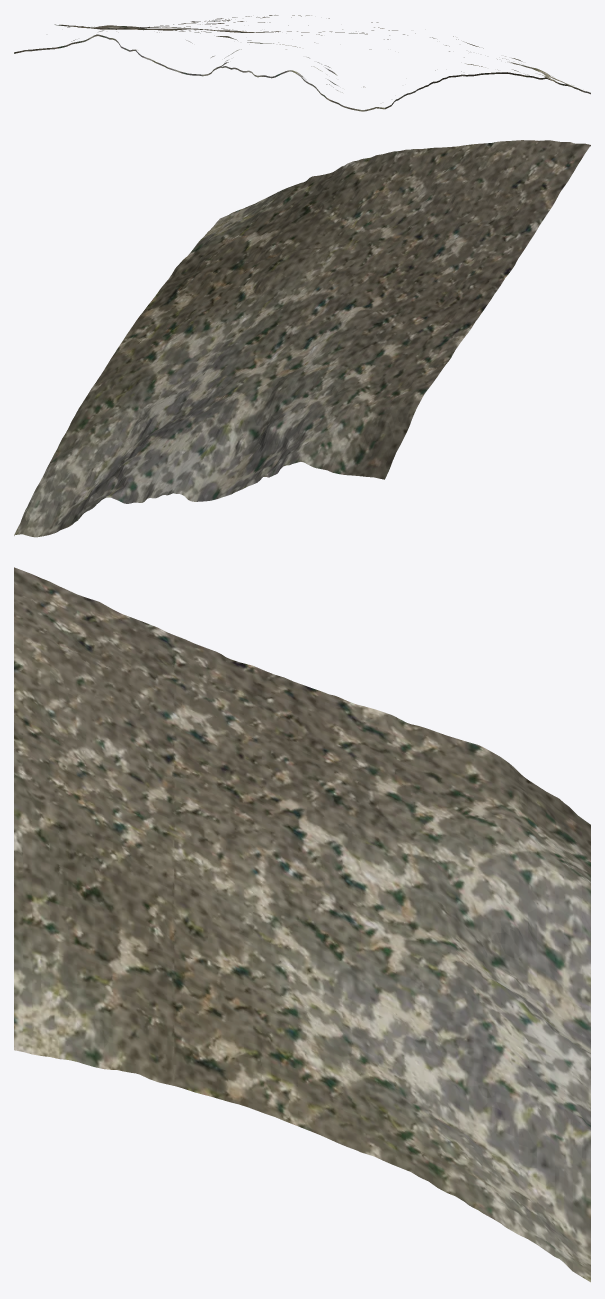
3 views of the same model, one above another, from view 1: azimuth 30°, elevation 25°; view 2: azimuth 150°, elevation 25°; view 3: azimuth 270°, elevation 25° (orthographic). The views are drawn at different scales.
Bounding box in the file's own units: 250 × 214 × 241.
1 material, 1 textured.
